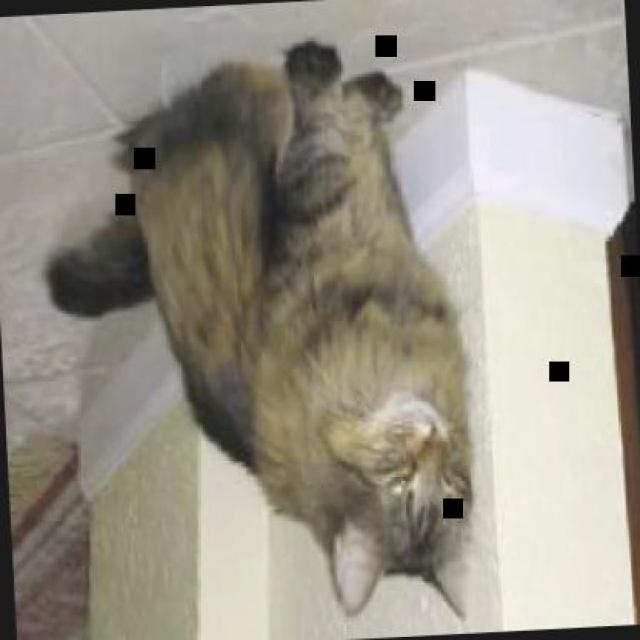cat: (32, 31, 483, 638)
